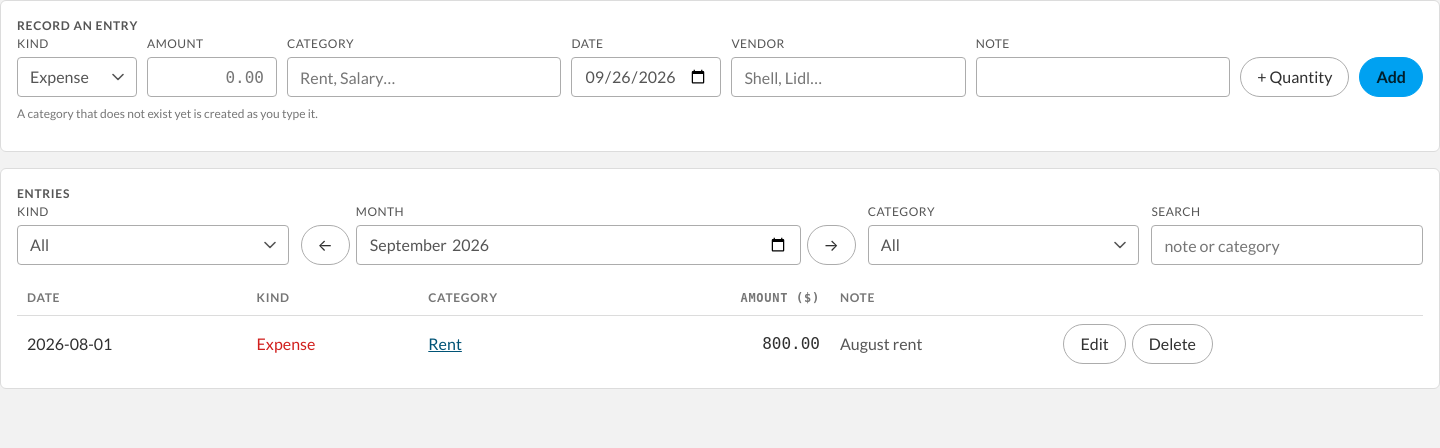
EntriesPage › refuses an amount with three decimal places before it reaches the server
The width and height of the screenshot is (1440, 448).
Expected: the table named "Entries" is shown, [17, 281, 1423, 372]
Step 1. Type "10.001" into the field labelled "Amount" → (212, 77), box [147, 57, 277, 97]
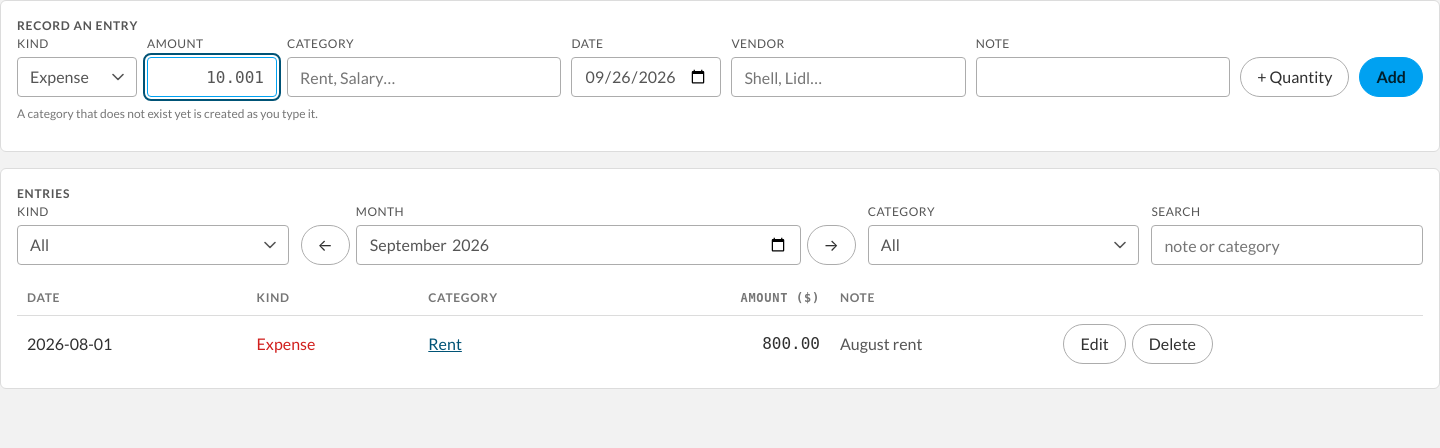
Step 2. Type "Taxi" into the field labelled "Category" → (424, 77), box [287, 57, 561, 97]
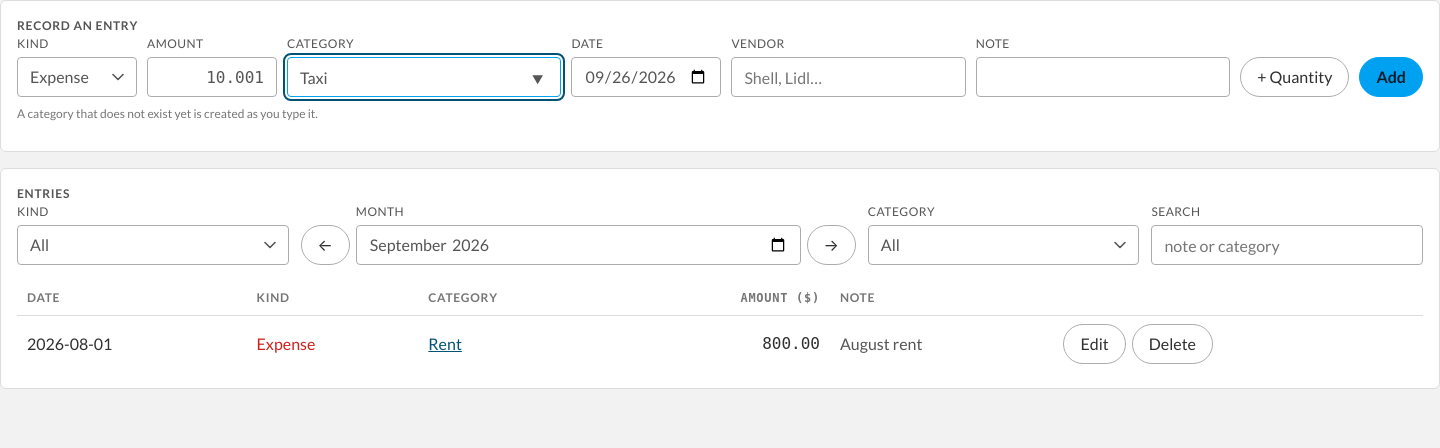
Step 3. Click the button "Add" → (1391, 77), box [1359, 57, 1423, 97]
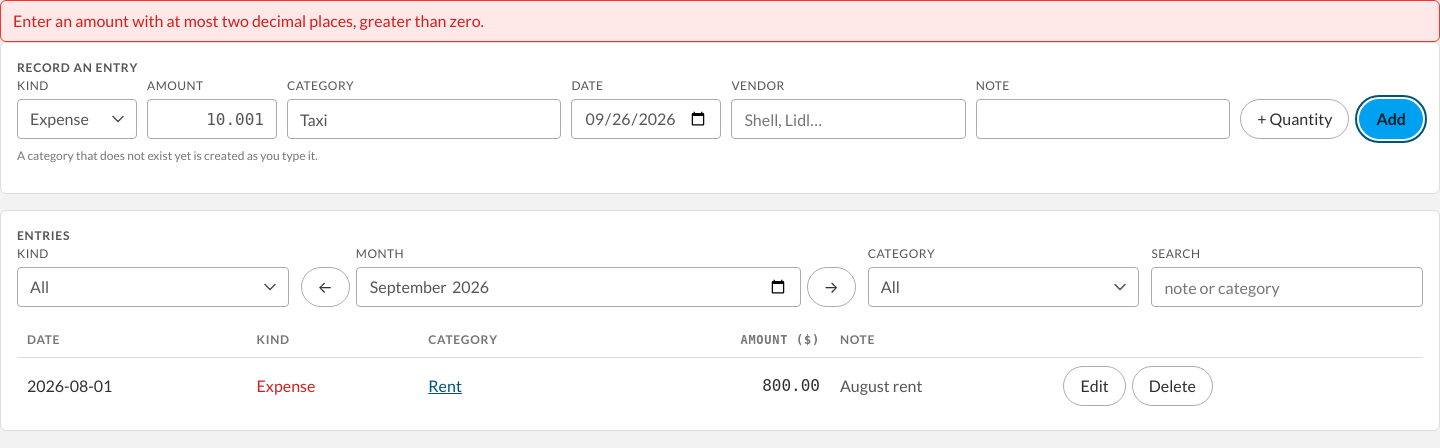
Now the message shows "two decimal places", box [13, 11, 484, 30]
